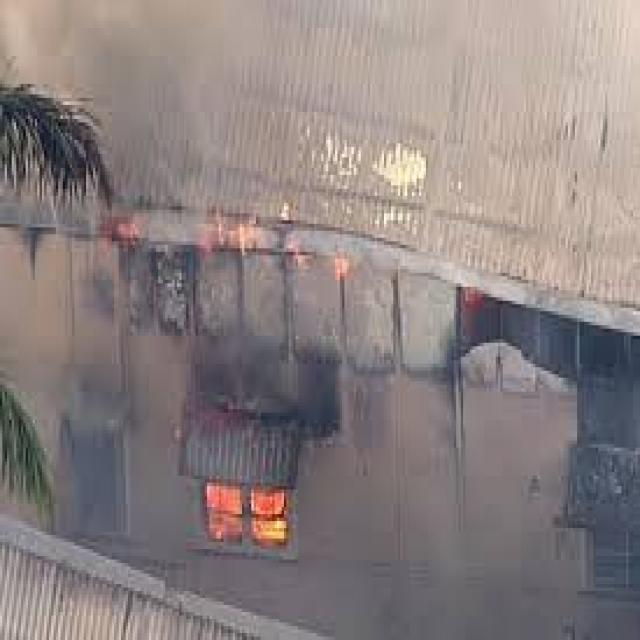Fire: (182, 431, 300, 568)
Smoke: (40, 280, 174, 540), (168, 232, 330, 431)
